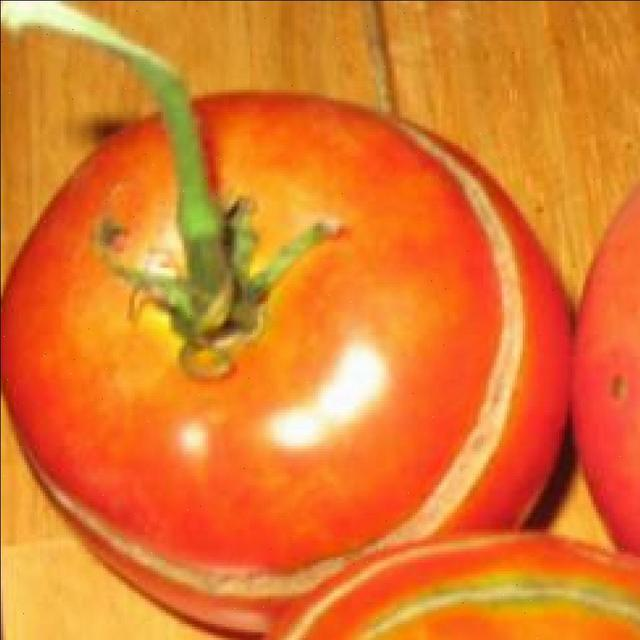Cracking Fruit: (182, 41, 346, 406)
